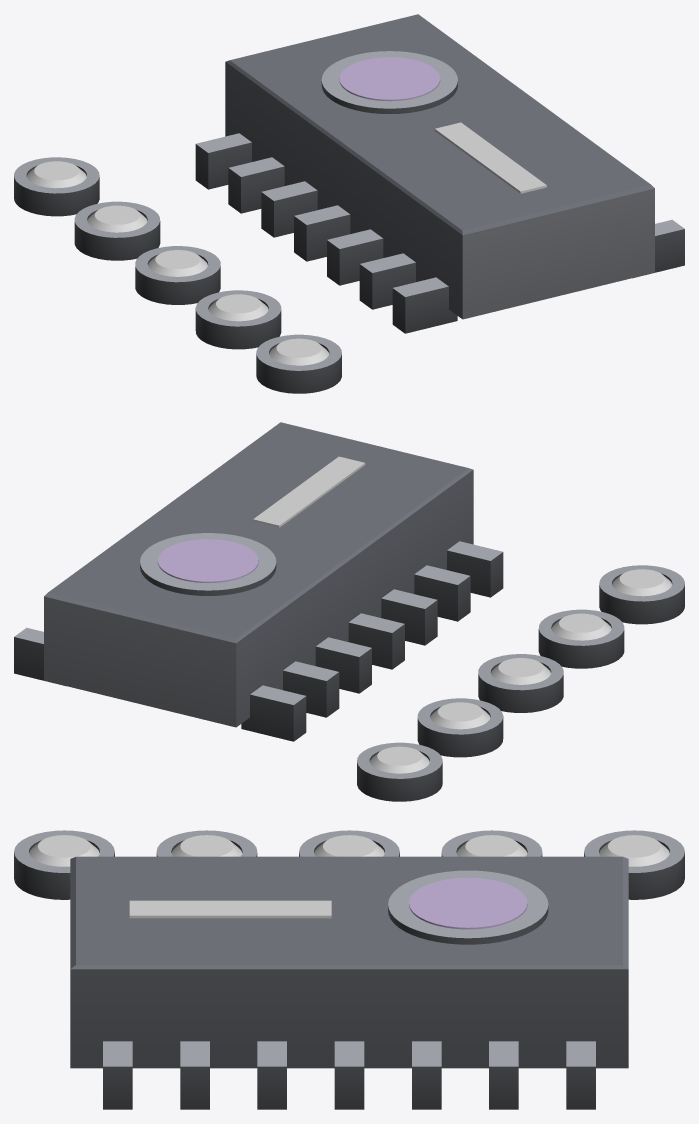
File: part_error_memory.glb
3 views of the same model, one above another, from view 1: azimuth 30°, elevation 25°; view 2: azimuth 150°, elevation 25°; view 3: azimuth 270°, elevation 25° (orthographic). The views are drawn at different scales.
Parts seen in each view (by area): view 1: Korpus, Glas, Licht, Lampe1, Lampe4, Lampe3, Lampe0, Lampe2; view 2: Korpus, Glas, Licht, Lampe3, Lampe0, Lampe1, Lampe4, Lampe2; view 3: Korpus, Glas, Licht, Lampe0, Lampe4, Lampe1, Lampe3, Lampe2.
Boxes of the visible parts, <box> form: Korpus: <box>14,14,684,393</box>; Glas: <box>339,57,440,101</box>; Licht: <box>434,122,546,193</box>; Lampe1: <box>87,205,147,232</box>; Lampe4: <box>269,338,328,365</box>; Lampe3: <box>208,294,268,321</box>; Lampe0: <box>27,161,86,188</box>; Lampe2: <box>148,250,207,276</box>; Korpus: <box>14,422,684,801</box>; Glas: <box>157,539,258,582</box>; Licht: <box>253,456,365,527</box>; Lampe3: <box>551,613,611,640</box>; Lampe0: <box>370,746,429,773</box>; Lampe1: <box>430,702,490,729</box>; Lampe4: <box>612,569,671,596</box>; Lampe2: <box>491,658,550,684</box>; Korpus: <box>14,830,684,1109</box>; Glas: <box>409,877,527,929</box>; Licht: <box>129,900,331,918</box>; Lampe0: <box>599,835,669,866</box>; Lampe4: <box>29,835,99,866</box>; Lampe1: <box>456,835,527,856</box>; Lampe3: <box>171,835,242,856</box>; Lampe2: <box>314,835,384,856</box>.
Bounding box in the file's own units: 1 × 0.235 × 1.13.
